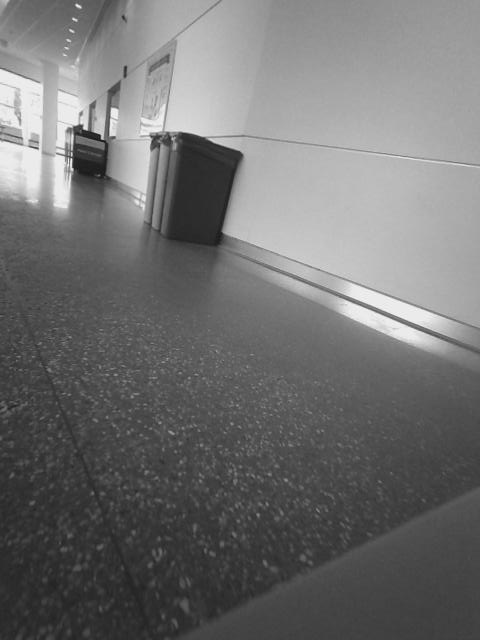ball: (240, 278, 313, 348)
